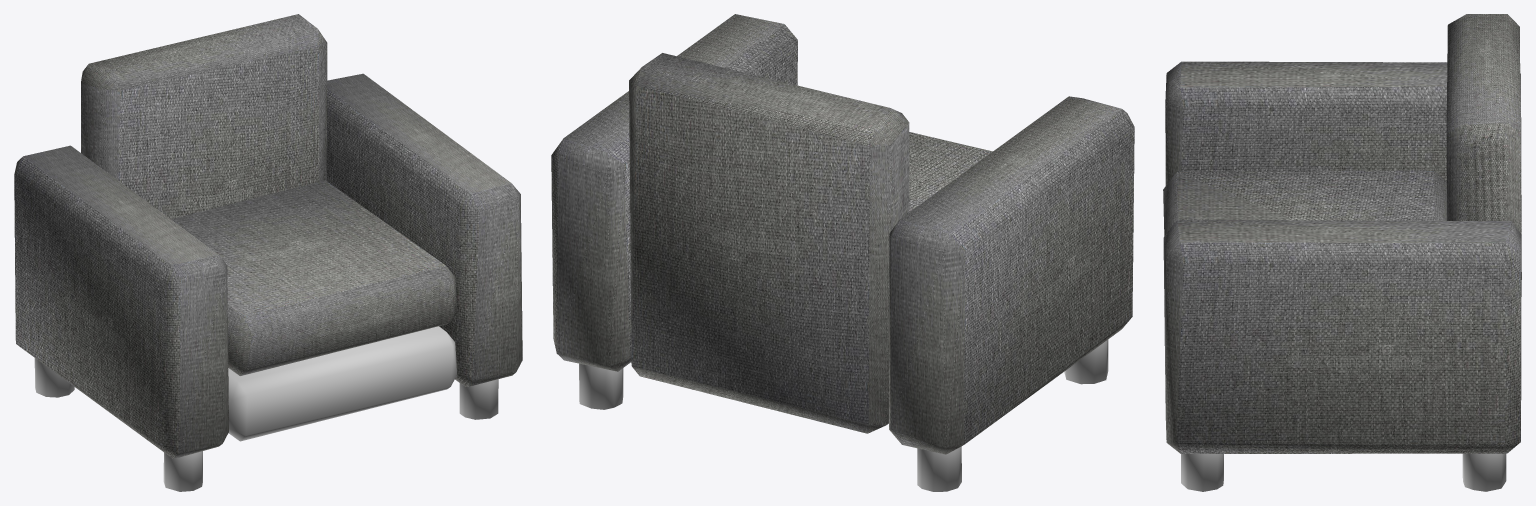
File: single_sofa.dae
3 views of the same model, side by side, from view 1: azimuth 30°, elevation 25°; view 2: azimuth 150°, elevation 25°; view 3: azimuth 270°, elevation 25° (orthographic). The views are drawn at different scales.
Visible parts, largest first — view 1: armshair, armshair.001; view 2: armshair, armshair.001; view 3: armshair, armshair.001.
Boxes of the visible parts, <box> form: armshair: <box>14,14,522,458</box>; armshair.001: <box>34,358,498,491</box>; armshair: <box>551,14,1134,454</box>; armshair.001: <box>579,339,1108,491</box>; armshair: <box>1163,14,1521,453</box>; armshair.001: <box>1181,453,1506,491</box>.
Bounding box in the file's own units: 0.94 × 0.7425 × 0.7726.
